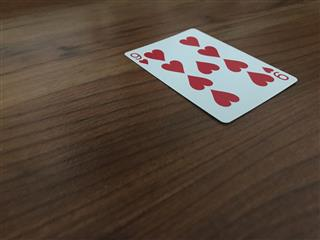NineOfHearts: (122, 26, 297, 124)
